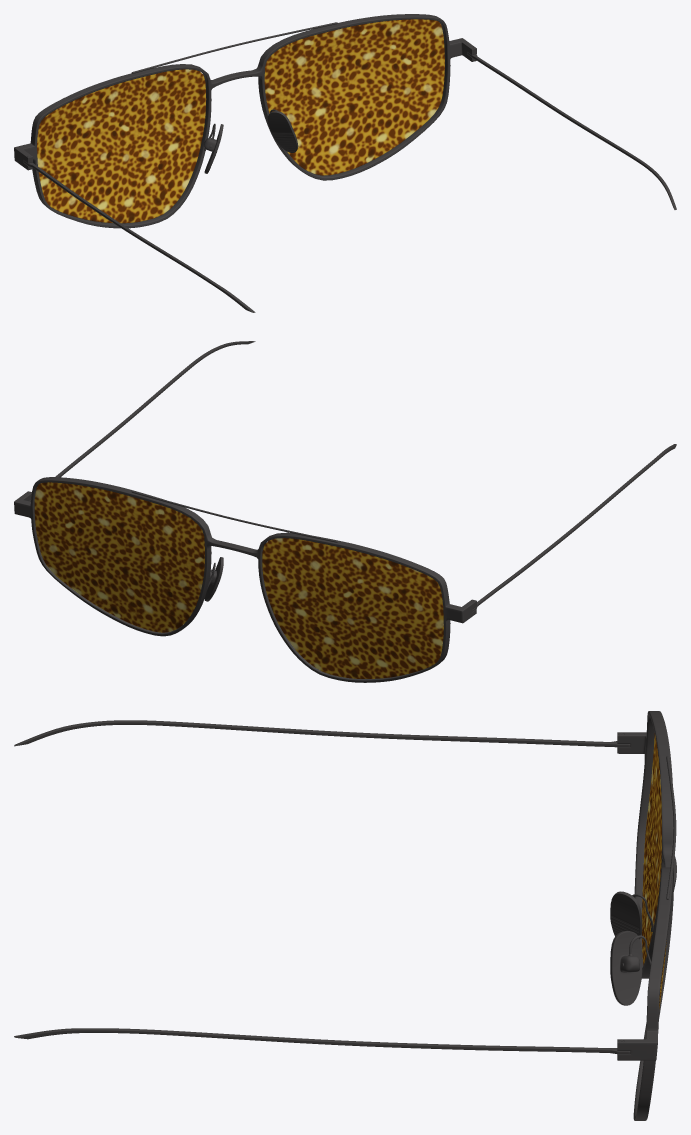
Rendered from bates_2.glb.gltf.
3 renders of one model, top to bottom at view 1: azimuth 30°, elevation 25°; view 2: azimuth 150°, elevation 25°; view 3: azimuth 270°, elevation 25°, orthographic. The views are drawn at different scales.
Visible parts, largest first — view 1: frame, temple_right, temple_left; view 2: frame, temple_right, temple_left; view 3: frame, temple_left, temple_right.
Part boxes in pixels (box(x1,y1,x2,y2)): frame: box(14, 14, 476, 228); temple_right: box(23, 161, 255, 312); temple_left: box(467, 52, 676, 209); frame: box(14, 477, 476, 682); temple_right: box(472, 444, 676, 611); temple_left: box(29, 341, 255, 501); frame: box(610, 711, 676, 1120); temple_left: box(14, 1028, 630, 1054); temple_right: box(14, 720, 630, 747).
Bounding box in the file's own units: 0.1456 × 0.0453 × 0.1311.
Materials: 2 (1 with a texture image).
